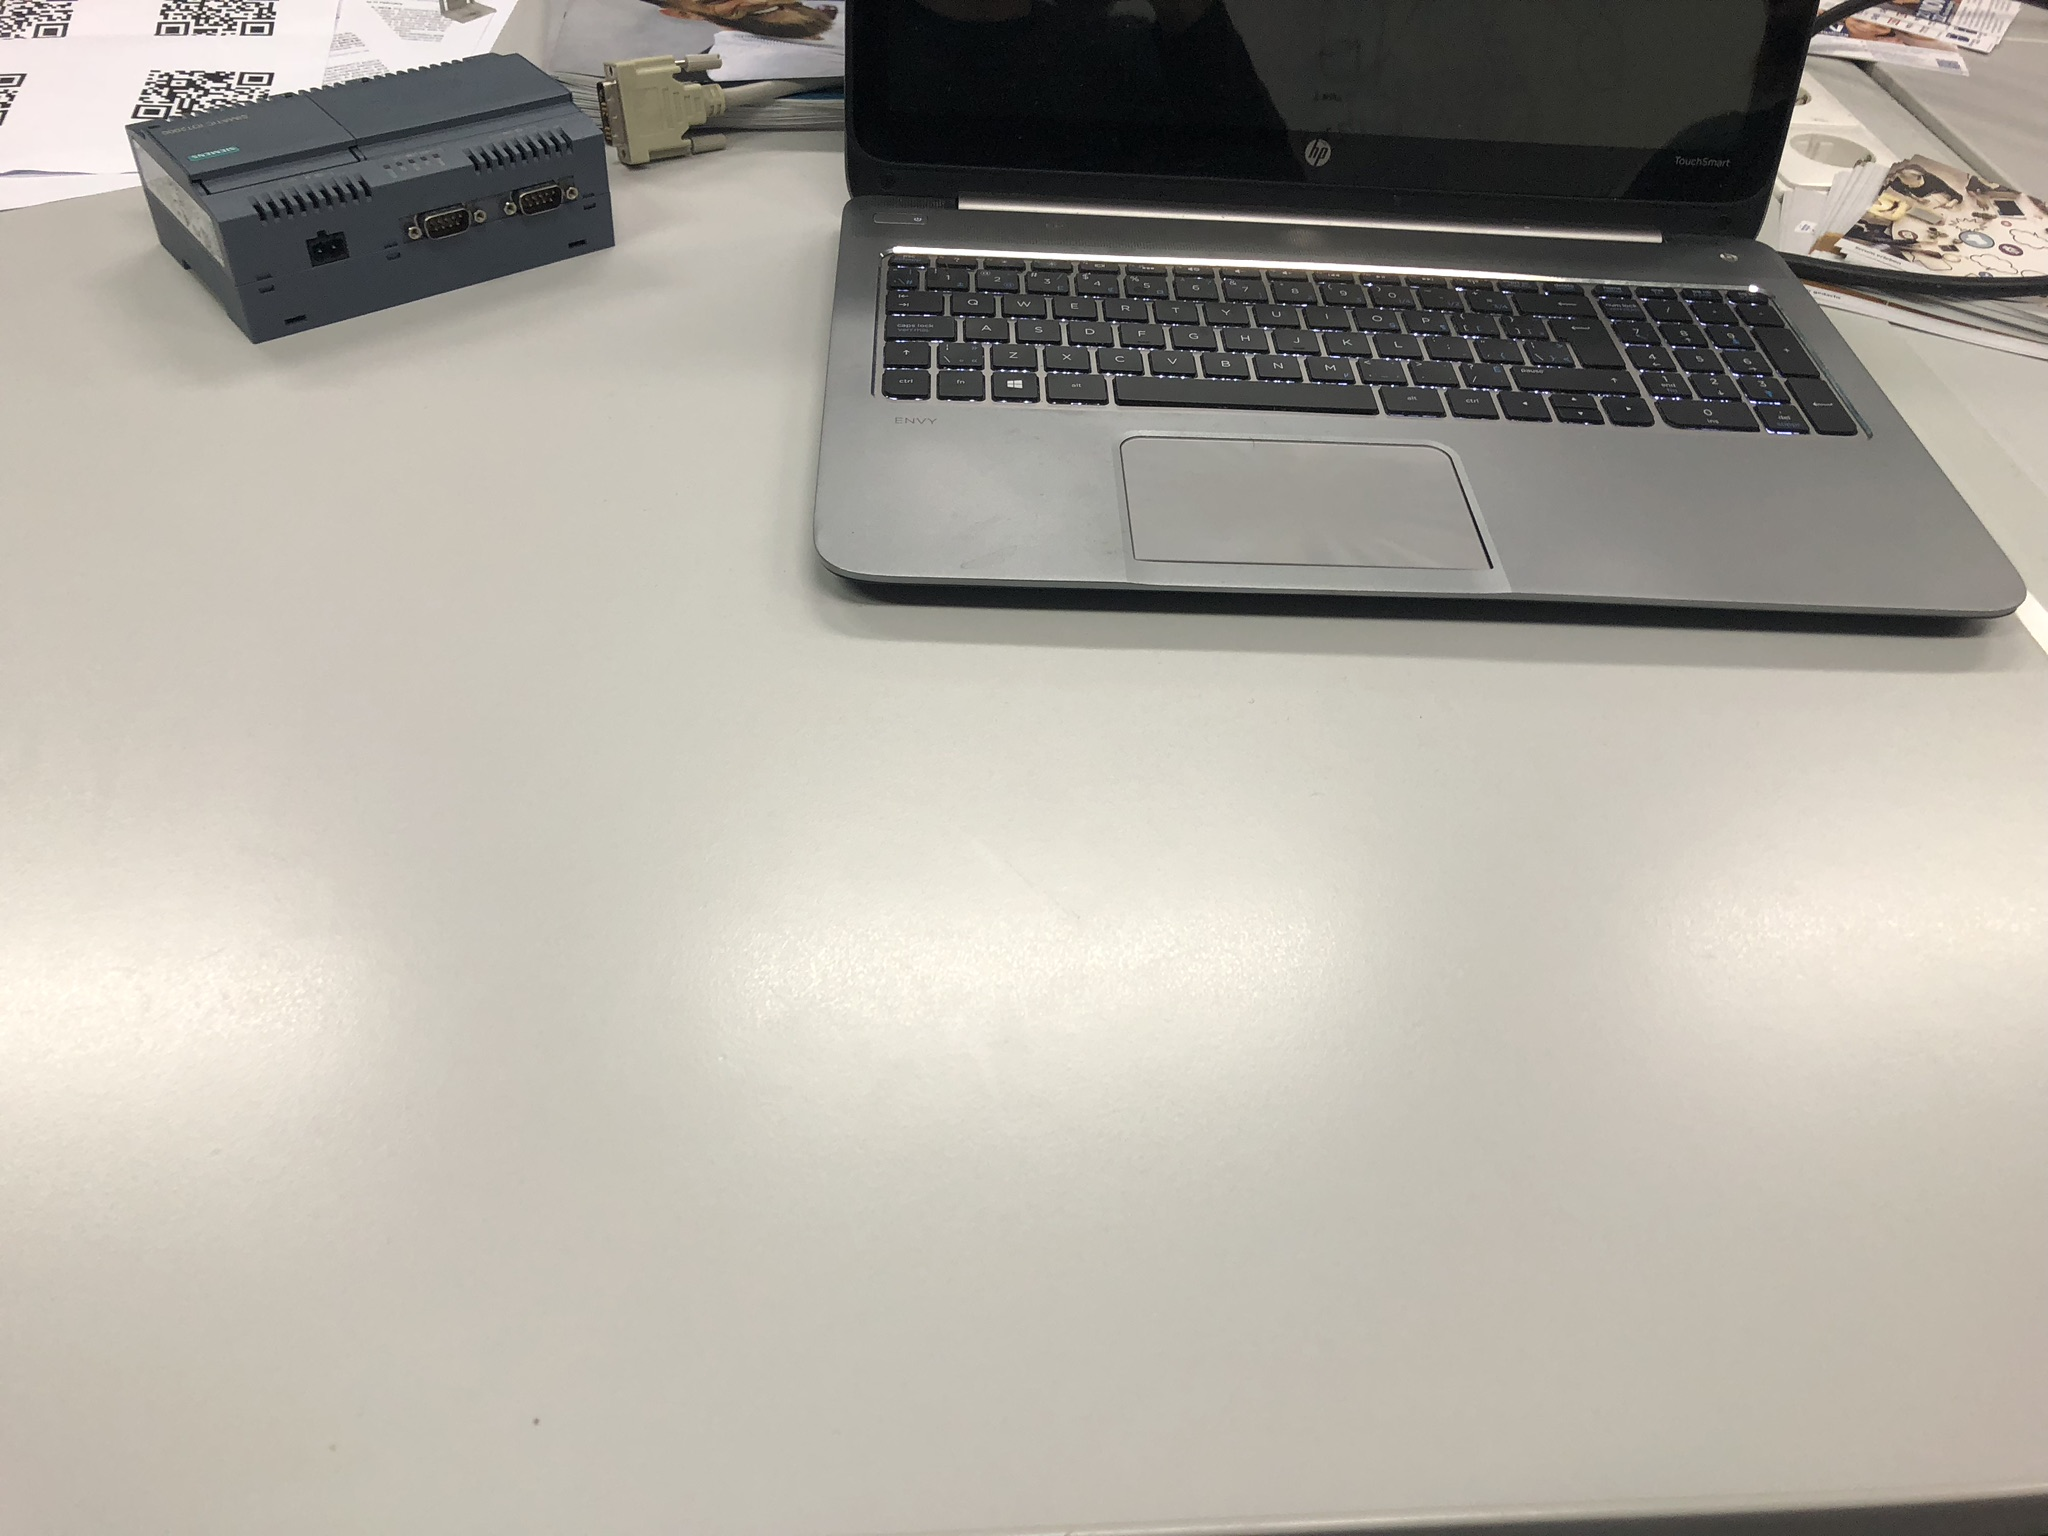device: (126, 53, 618, 345)
